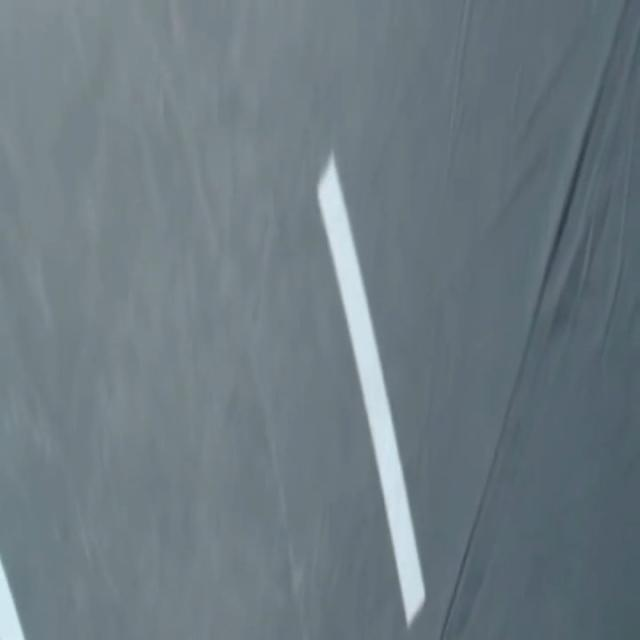center: (318, 154, 424, 626)
left: (0, 558, 24, 639)
